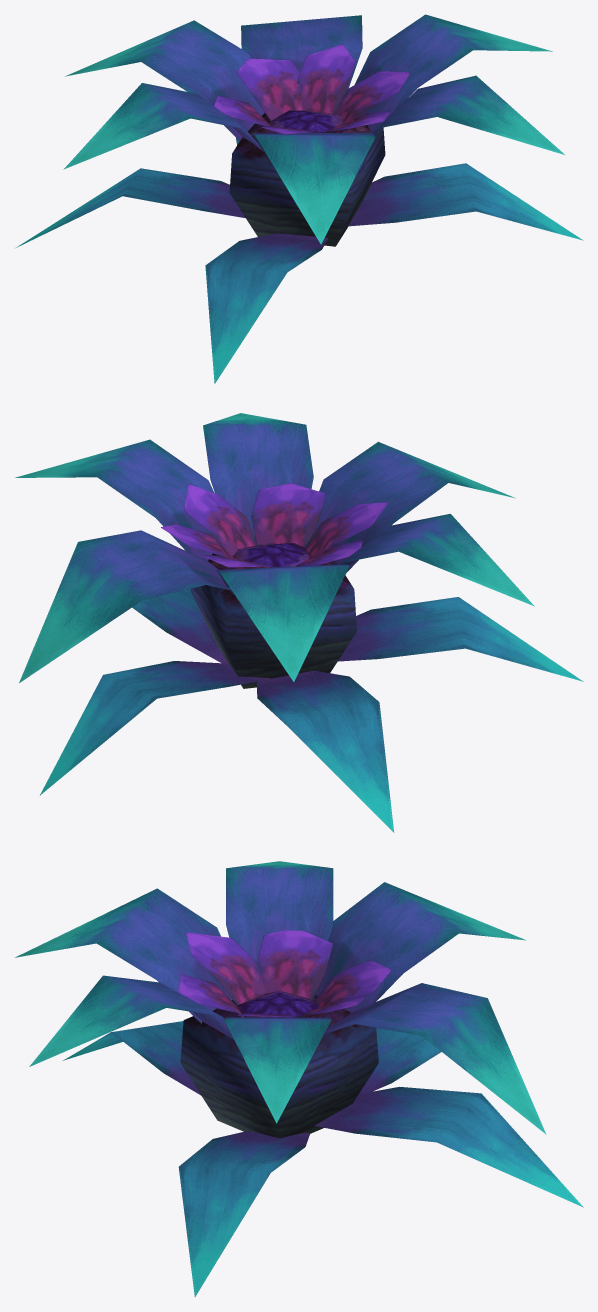
Rendered from hua03.FBX.
3 renders of one model, top to bottom at view 1: azimuth 30°, elevation 25°; view 2: azimuth 150°, elevation 25°; view 3: azimuth 270°, elevation 25°, orthographic. The views are drawn at different scales.
Parts seen in each view (by area): view 1: hua03; view 2: hua03; view 3: hua03.
Part boxes in pixels (left/top/right/bottom): hua03: left=16, top=14, right=583, bottom=383; hua03: left=15, top=413, right=583, bottom=832; hua03: left=15, top=861, right=583, bottom=1296.
Size of the model in its own units: 22.85 by 20.95 by 9.14.
